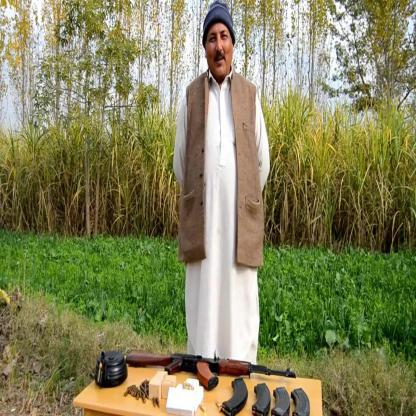Gun: (121, 339, 298, 402)
